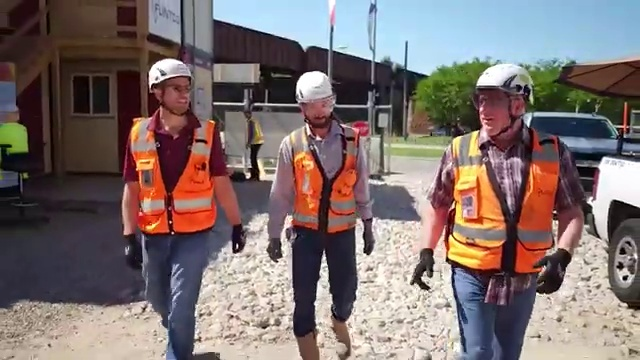helmet: (466, 62, 541, 103), (140, 46, 197, 89), (289, 70, 347, 104)
jacket: (447, 117, 568, 291), (121, 113, 234, 240), (272, 120, 374, 239)
